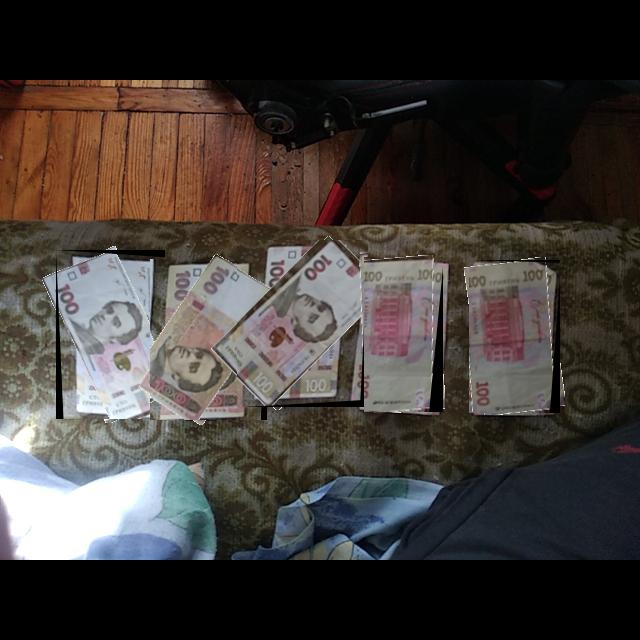100uah: (237, 240, 369, 408), (150, 259, 268, 421), (56, 250, 166, 420), (469, 260, 561, 414), (364, 257, 444, 413)
